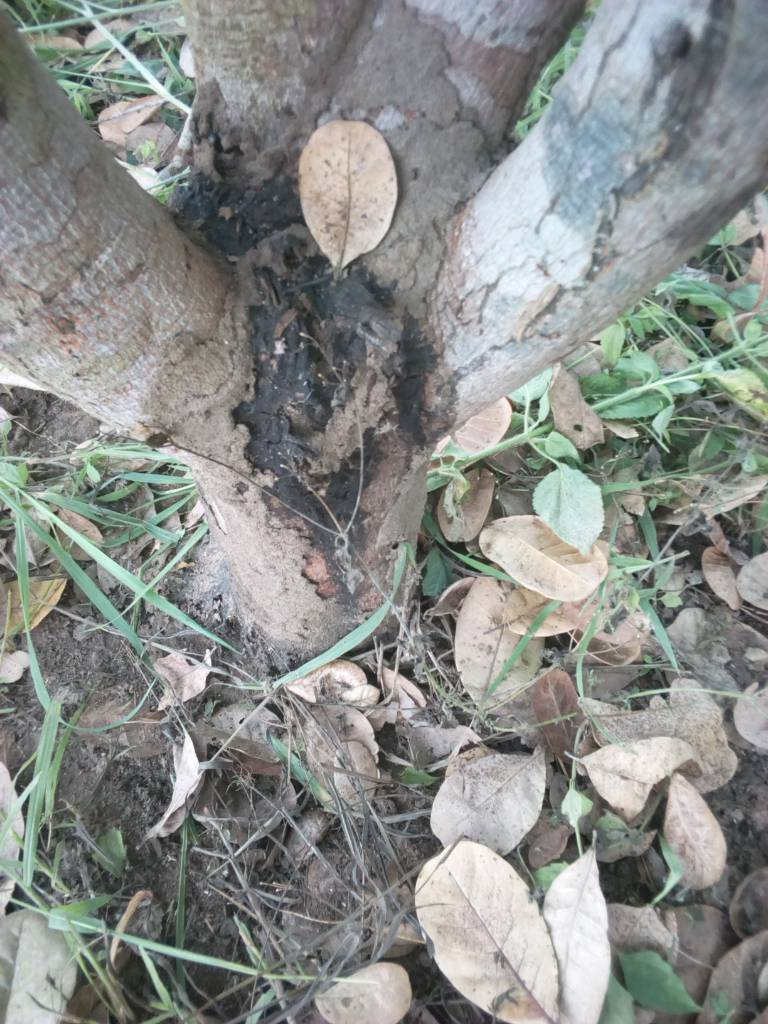Gommose: (232, 235, 429, 580)
